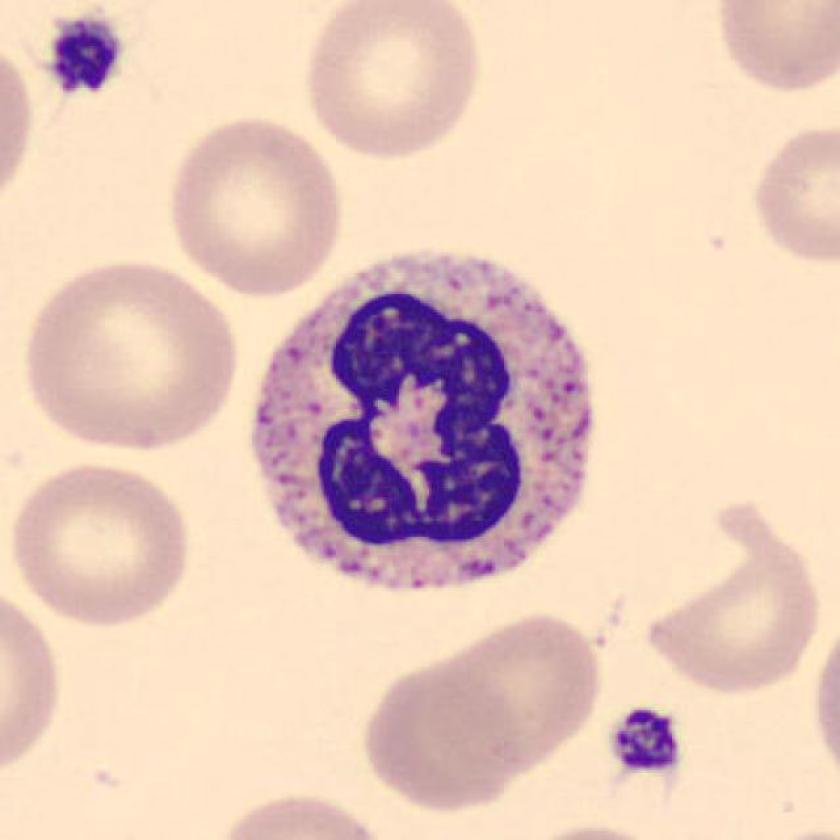neutrophil: (253, 254, 589, 588)
